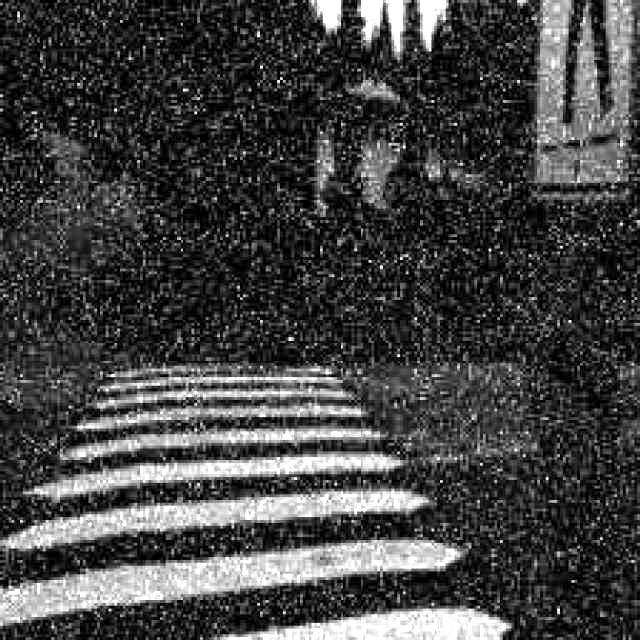crosswalk: (0, 342, 582, 639)
